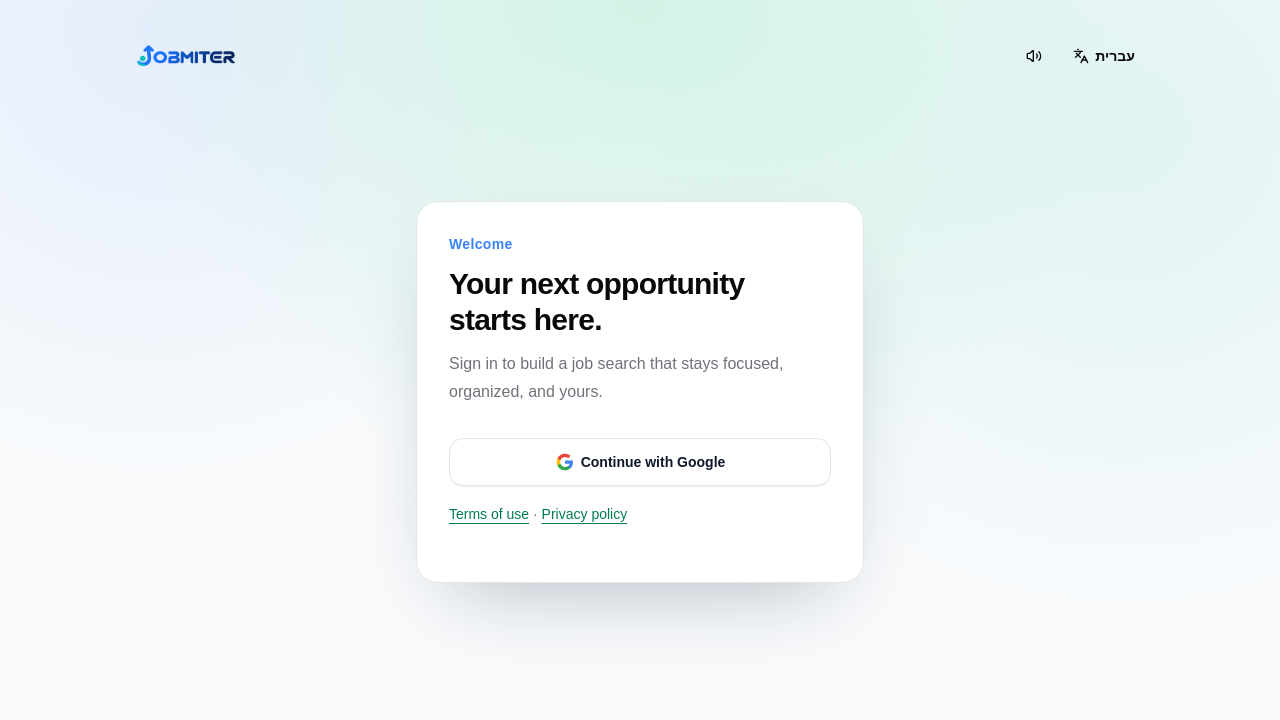
authentication UI › switches the existing auth UI between English LTR and Hebrew RTL
Click the button with aria-label "Switch language to Hebrew" at (1104, 56), box x1=1060 y1=38 x2=1148 y2=74
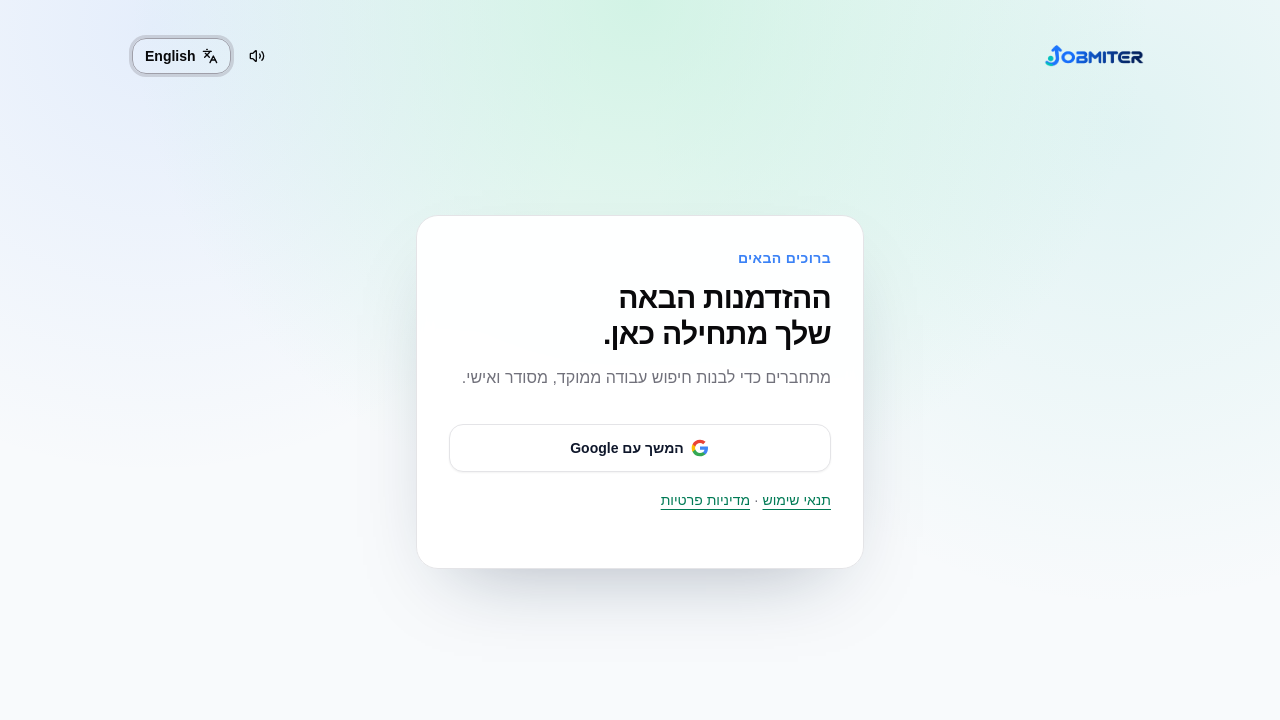
Result: the button "המשך עם Google" is shown at x1=449 y1=424 x2=831 y2=472
